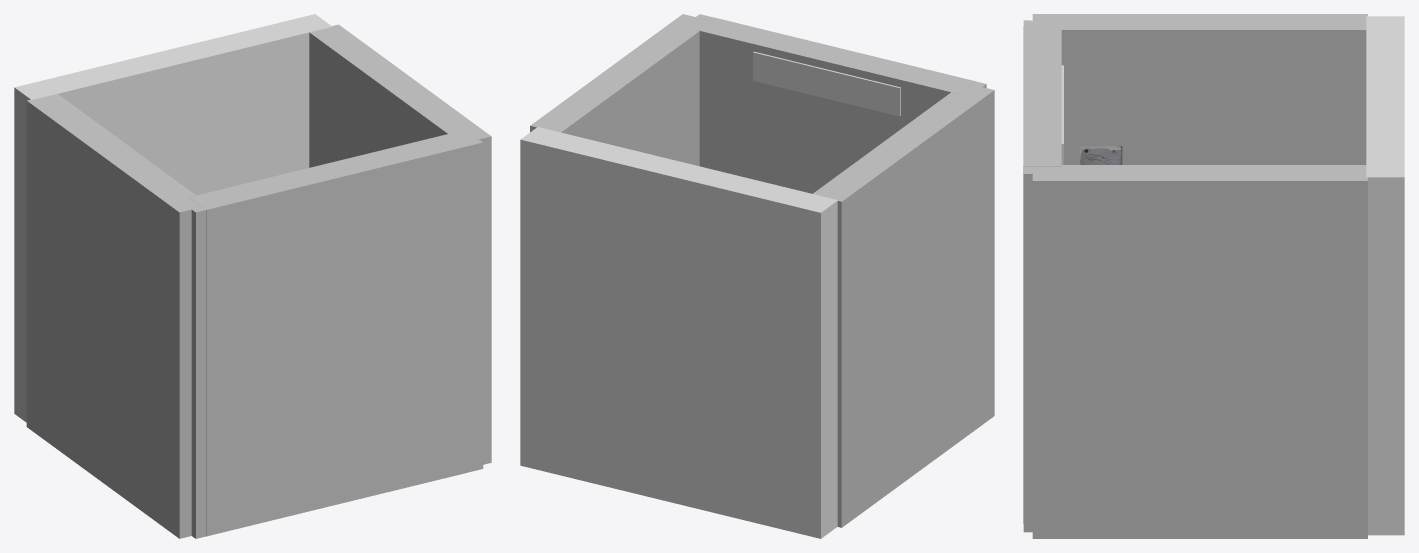
Rendered from elevator2.fbx.
The picture shows the model from 3 angles, left to right: view 1: azimuth 30°, elevation 25°; view 2: azimuth 150°, elevation 25°; view 3: azimuth 270°, elevation 25°; orthographic projection. The views are drawn at different scales.
Parts seen in each view (by area): view 1: Cube.001, R, L, Cube.003, Cube.002; view 2: Cube.003, Cube.001, R, Cube.002, L, Cube.004; view 3: Cube.002, Cube.001, Cube.003, R, L, Plane.001.
Boxes of the visible parts, box(x1,y1,x2,y2) form: Cube.001: box(26, 94, 205, 538); R: box(320, 133, 468, 504); L: box(189, 165, 337, 536); Cube.003: box(14, 14, 332, 422); Cube.002: box(309, 24, 491, 472); Cube.003: box(520, 127, 837, 538); Cube.001: box(813, 81, 994, 527); R: box(697, 17, 844, 193); Cube.002: box(530, 14, 713, 166); L: box(828, 49, 975, 182); Cube.004: box(753, 51, 900, 116); Cube.002: box(1023, 165, 1367, 538); Cube.001: box(1023, 14, 1367, 164); Cube.003: box(1366, 16, 1404, 535); R: box(1023, 96, 1061, 523); L: box(1023, 26, 1061, 95); Plane.001: box(1079, 146, 1122, 164).
Size of the model in its own units: 580 by 580 by 559.
